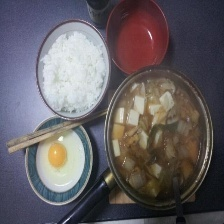rice: (42, 31, 109, 115)
